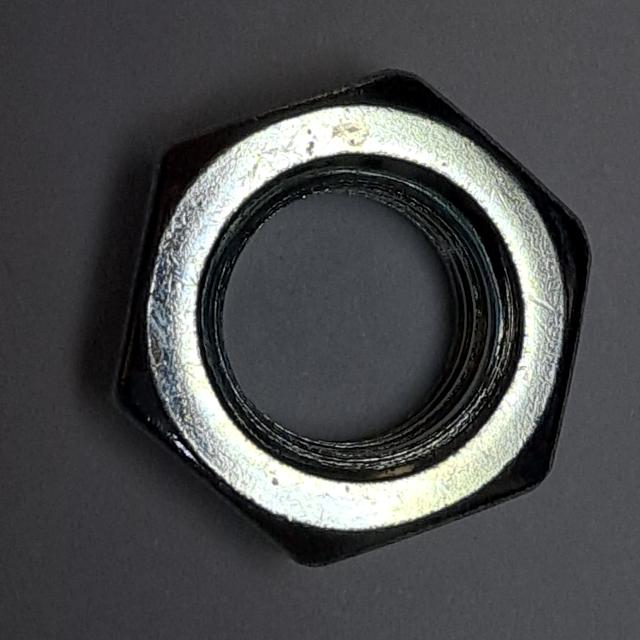Excellent: (83, 55, 604, 586)
